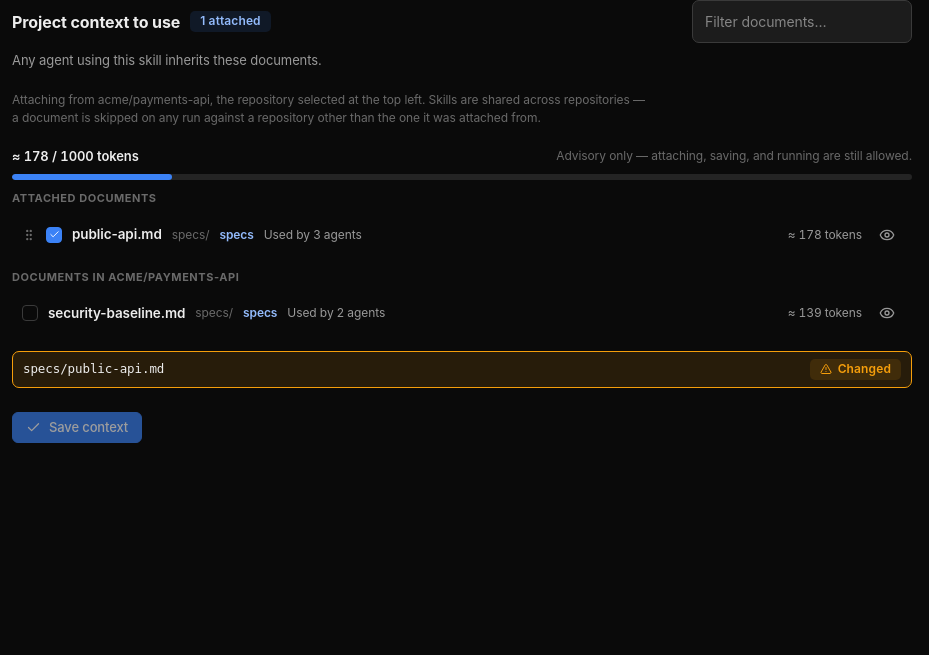
Scenario: ContextTab › a previous_unavailable drift response renders the note and still allows confirm (AC-38)
The width and height of the screenshot is (929, 655).
Step 1. Click the button with aria-label "View change" → (855, 369), box [810, 359, 901, 380]
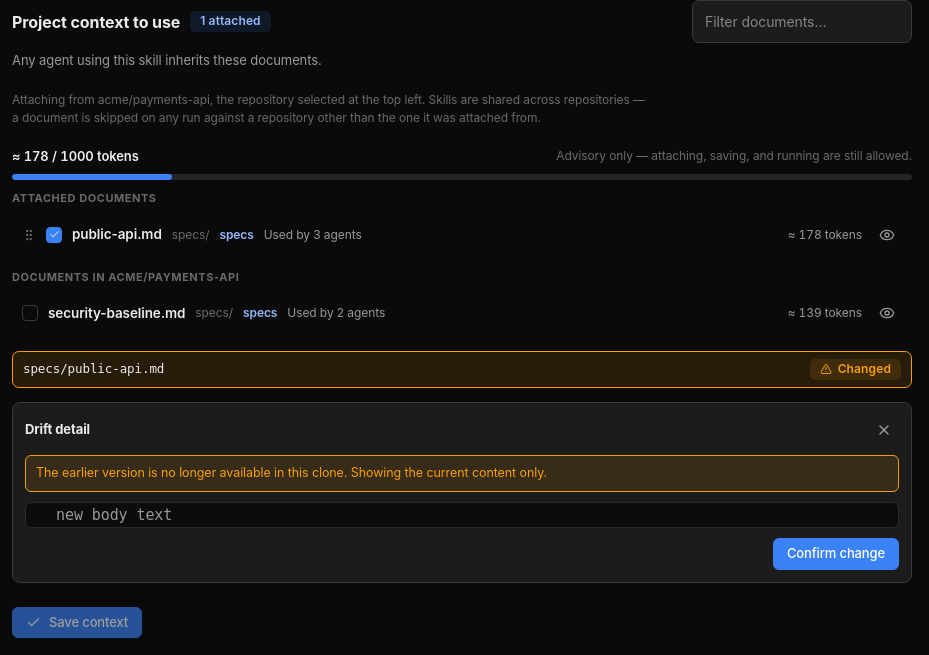
expect the text "The earlier version is no longer available in this clone. Showing the current content only." is shown: met, box [36, 465, 547, 480]
expect the button "Confirm change" is shown: met, box [773, 538, 899, 570]
